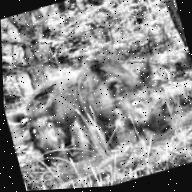boar: (59, 35, 182, 164)
